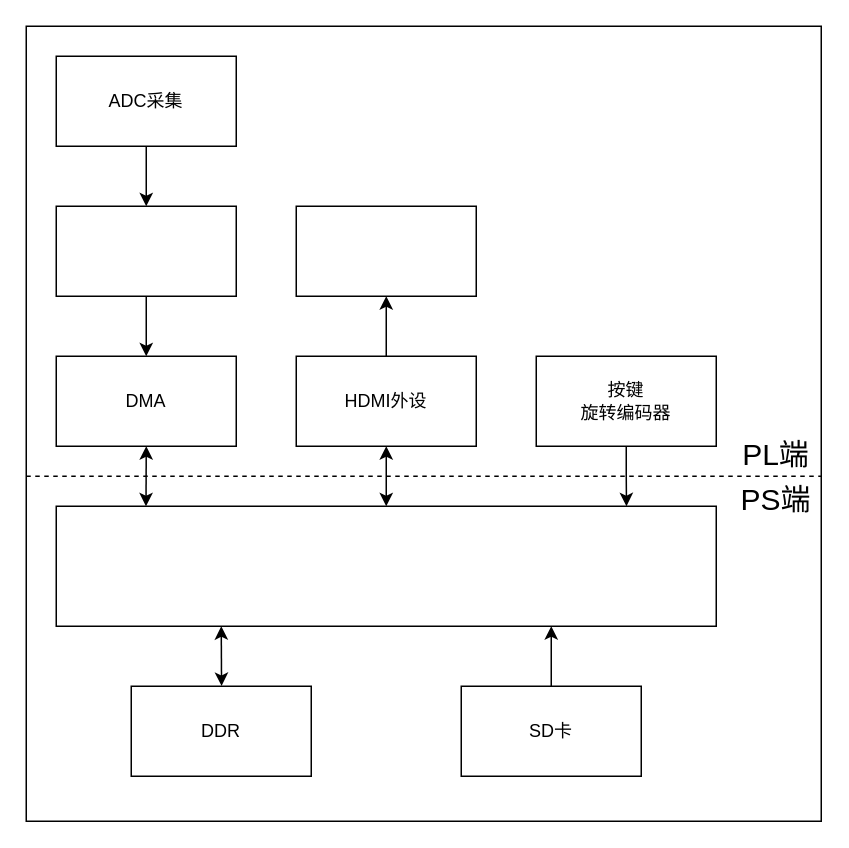
Some shapes in this 849 by 848 pixel diagram are drawn without their labels. The centre of each missing label's shape, as x and y in pixels:
"Cortex-A9处理器" belongs at (385,565).
"FFT" belongs at (145,250).
"HDMI显示器" belongs at (385,250).
